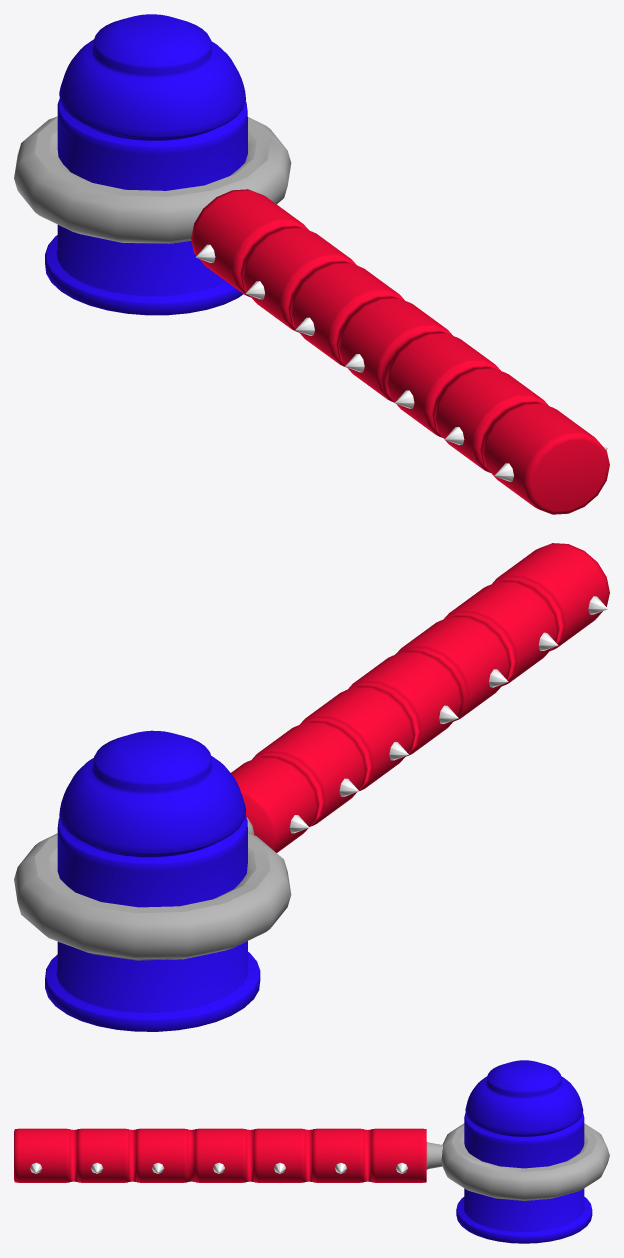
File: Obstacle13.fbx
The picture shows the model from 3 angles, top to bottom: view 1: azimuth 30°, elevation 25°; view 2: azimuth 150°, elevation 25°; view 3: azimuth 270°, elevation 25°; orthographic projection. The views are drawn at different scales.
Parts seen in each view (by area): view 1: Cylinder.030, Cylinder.027, Torus.013; view 2: Cylinder.027, Cylinder.030, Torus.013; view 3: Cylinder.030, Cylinder.027, Torus.013.
Boxes of the visible parts, bbox=[...] form: Cylinder.030: bbox=[191, 189, 609, 514]; Cylinder.027: bbox=[45, 14, 247, 315]; Torus.013: bbox=[14, 116, 291, 243]; Cylinder.027: bbox=[45, 730, 260, 1031]; Cylinder.030: bbox=[231, 543, 609, 852]; Torus.013: bbox=[14, 833, 291, 960]; Cylinder.030: bbox=[14, 1128, 442, 1182]; Cylinder.027: bbox=[456, 1060, 592, 1243]; Torus.013: bbox=[441, 1123, 609, 1200].
Size of the model in its own units: 179 by 169 by 622.
